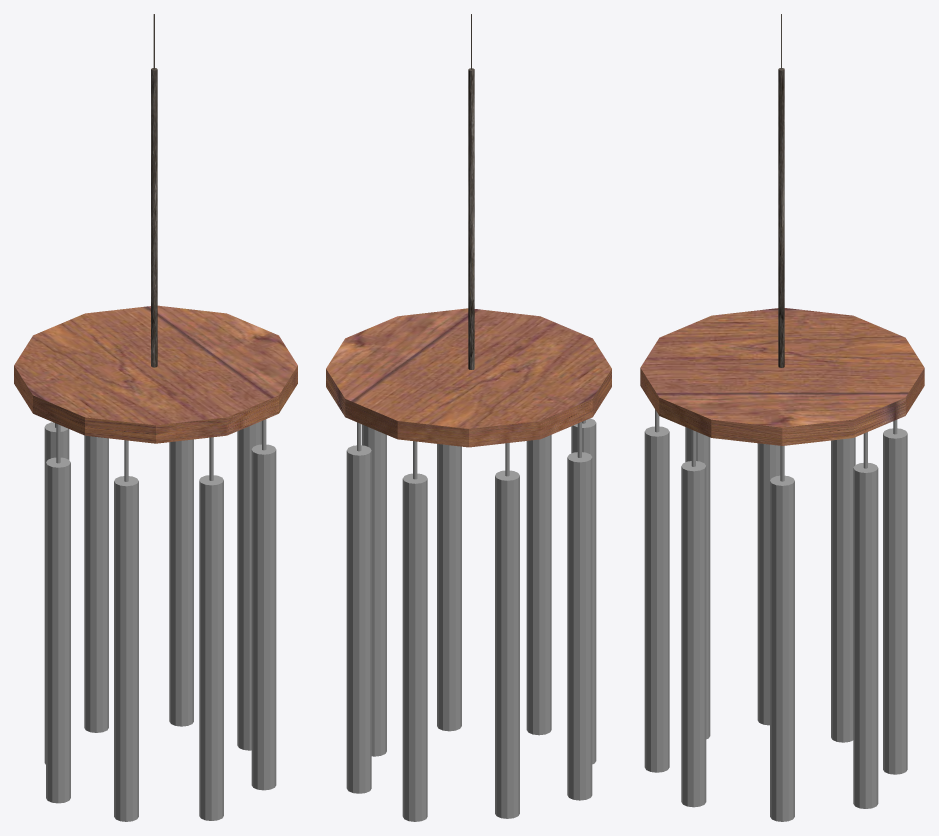
File: Windchimes.fbx
The picture shows the model from 3 angles, left to right: view 1: azimuth 30°, elevation 25°; view 2: azimuth 150°, elevation 25°; view 3: azimuth 270°, elevation 25°; orthographic projection.
Parts seen in each view (by area): view 1: WindchimesBase, pasted__Windchime5, pasted__Windchime, pasted__pasted__Windchime2, pasted__Windchime3, Windchime2, pasted__Windchime2, Windchime, WindchimeString, pasted__Windchime4; view 2: WindchimesBase, Windchime2, pasted__Windchime3, pasted__Windchime2, pasted__Windchime4, pasted__Windchime, pasted__Windchime5, Windchime, pasted__pasted__Windchime2, WindchimeString; view 3: WindchimesBase, pasted__Windchime5, pasted__Windchime2, pasted__Windchime, Windchime, Windchime2, pasted__Windchime4, pasted__Windchime3, WindchimeString, pasted__pasted__Windchime2.
Part boxes in pixels (x1,y1,x2,y2): WindchimesBase: (14, 305, 297, 443); pasted__Windchime5: (251, 419, 276, 790); pasted__Windchime: (199, 437, 223, 820); pasted__pasted__Windchime2: (114, 440, 138, 821); pasted__Windchime3: (46, 423, 70, 803); Windchime2: (84, 435, 108, 732); pasted__Windchime2: (169, 439, 193, 726); Windchime: (237, 421, 261, 750); WindchimeString: (151, 14, 157, 367); pasted__Windchime4: (44, 422, 69, 764); WindchimesBase: (326, 308, 611, 447); Windchime2: (402, 441, 427, 821); pasted__Windchime3: (567, 422, 592, 800); pasted__Windchime2: (346, 422, 371, 793); pasted__Windchime4: (495, 443, 519, 818); pasted__Windchime: (526, 435, 551, 735); pasted__Windchime5: (437, 444, 461, 731); Windchime: (362, 424, 386, 756); pasted__pasted__Windchime2: (571, 418, 596, 764); WindchimeString: (468, 14, 474, 369); WindchimesBase: (640, 308, 924, 445); pasted__Windchime5: (681, 430, 706, 807); pasted__Windchime2: (853, 432, 878, 808); pasted__Windchime: (644, 409, 669, 772); Windchime: (770, 446, 794, 821); Windchime2: (883, 420, 907, 774); pasted__Windchime4: (831, 437, 855, 742); pasted__Windchime3: (757, 443, 780, 725); WindchimeString: (778, 14, 784, 367); pasted__pasted__Windchime2: (685, 427, 710, 739).
Bounding box in the file's own units: 1.09 × 3.19 × 1.09.
